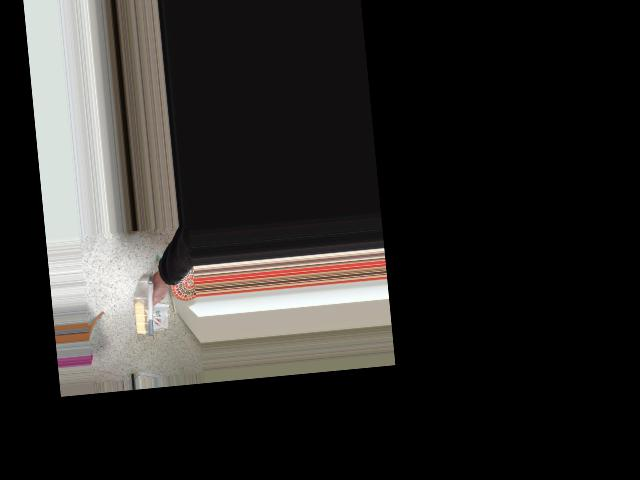cheese: (123, 275, 170, 339)
